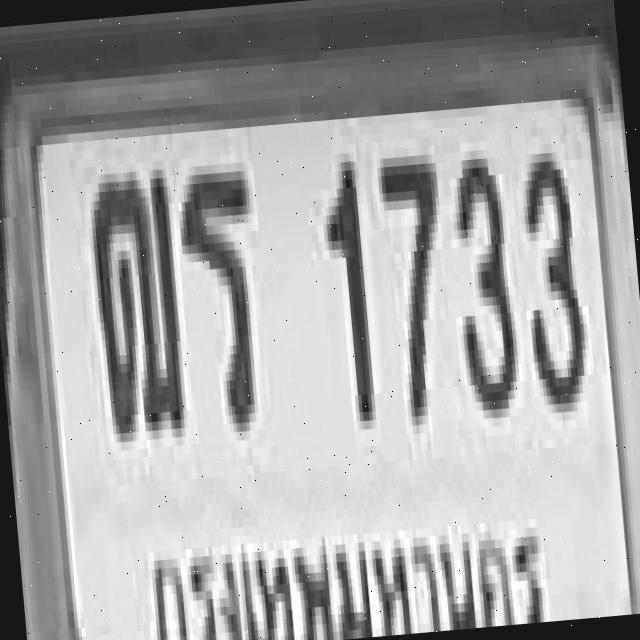1: (317, 152, 372, 414)
27ThorPhuThao: (84, 160, 184, 434)
3: (512, 142, 586, 406), (444, 148, 518, 412)
44RorRuea: (175, 162, 265, 426)
7: (376, 145, 450, 417)
Bangkok: (144, 481, 554, 640)
